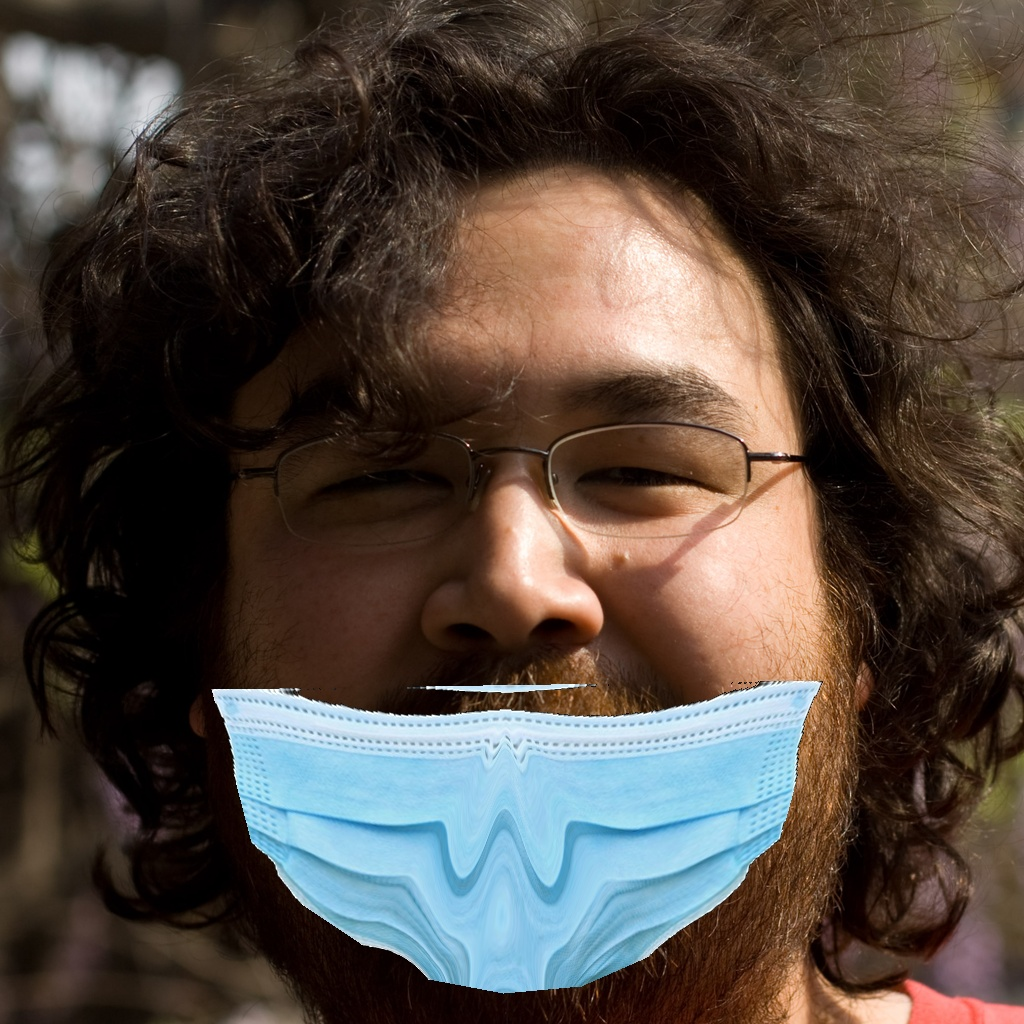mascarilla_mal_puesta: (222, 385, 877, 975)
